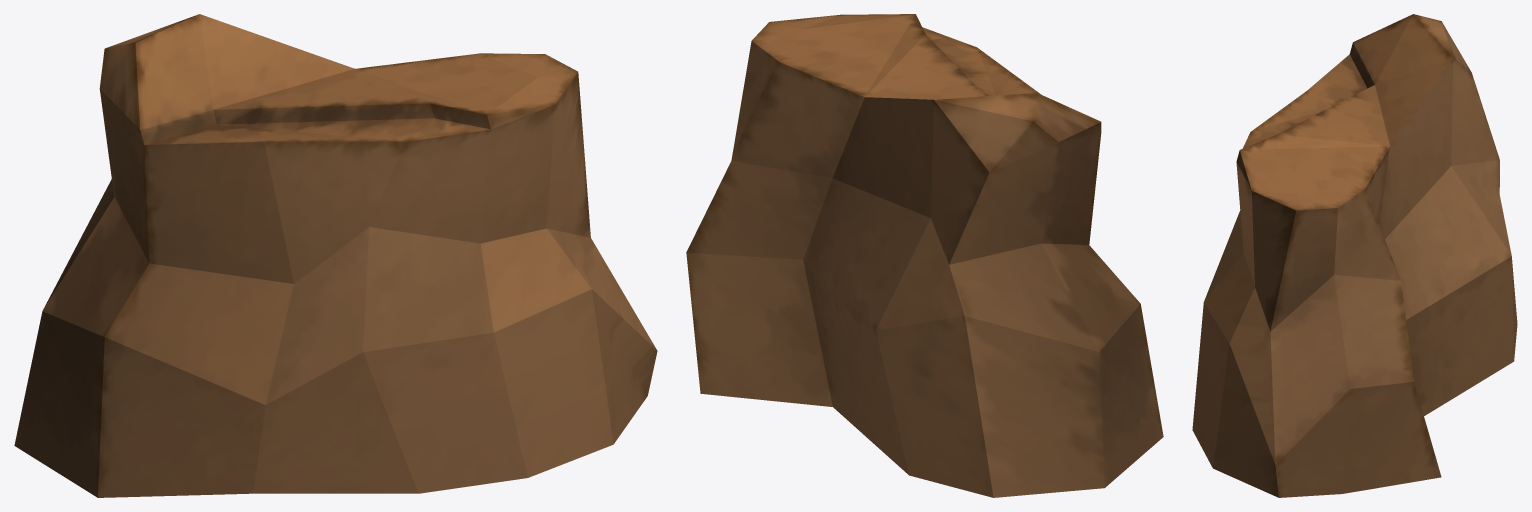
Rendered from Coincraft_Rock_03.fbx.
The picture shows the model from 3 angles, left to right: view 1: azimuth 30°, elevation 25°; view 2: azimuth 150°, elevation 25°; view 3: azimuth 270°, elevation 25°; orthographic projection. The views are drawn at different scales.
Parts seen in each view (by area): view 1: Rock_03; view 2: Rock_03; view 3: Rock_03.
Part boxes in pixels (box(x1,y1,x2,y2)): Rock_03: box(14, 14, 657, 497); Rock_03: box(686, 14, 1163, 497); Rock_03: box(1192, 14, 1517, 497).
Bounding box in the file's own units: 61.56 × 44.78 × 40.6.
1 material, 1 textured.
